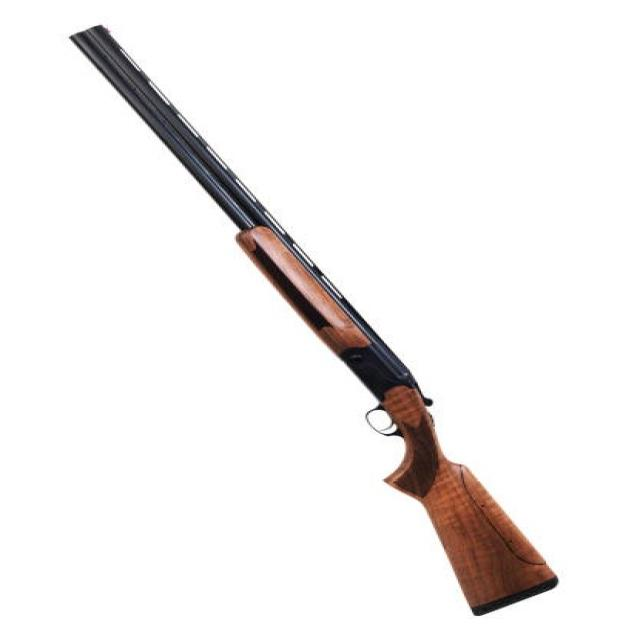rifle: (63, 22, 567, 621)
